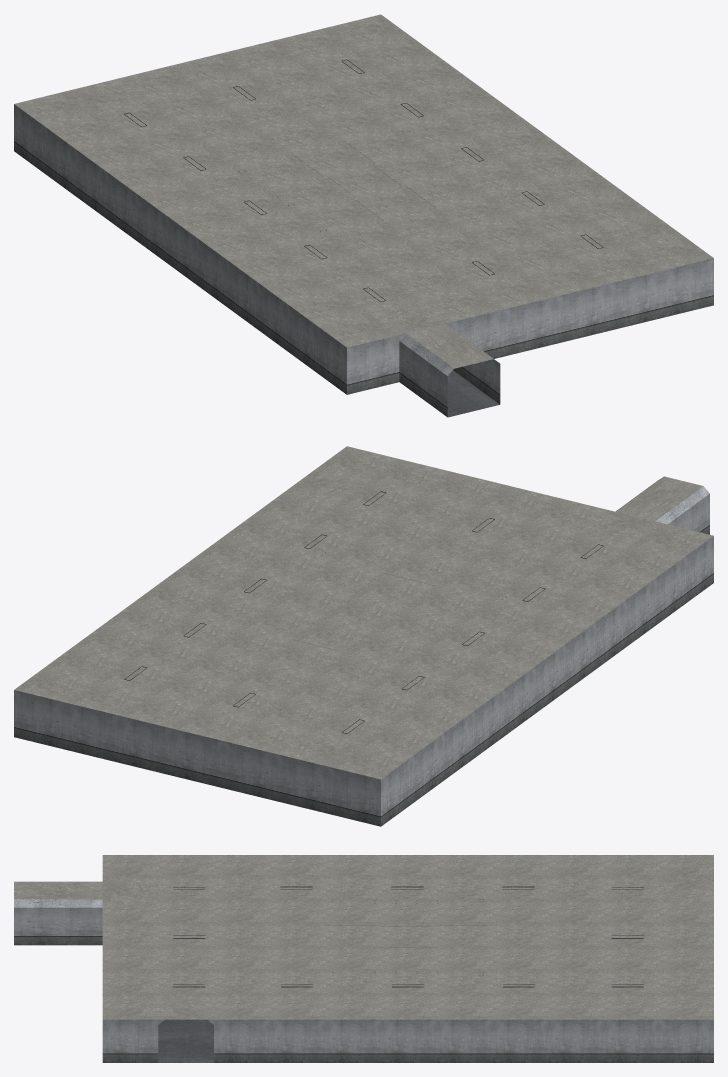
The model's file is aircarpark_02_sfse.obj.
3 renders of one model, top to bottom at view 1: azimuth 30°, elevation 25°; view 2: azimuth 150°, elevation 25°; view 3: azimuth 270°, elevation 25°, orthographic. The views are drawn at different scales.
Visible parts, largest first — view 1: aircarpark_02_SFSe; view 2: aircarpark_02_SFSe; view 3: aircarpark_02_SFSe.
Part boxes in pixels (x1,y1,x2,y2): aircarpark_02_SFSe: [14, 14, 713, 417]; aircarpark_02_SFSe: [14, 446, 713, 826]; aircarpark_02_SFSe: [14, 855, 713, 1062].
Size of the model in its own units: 57.59 by 7.15 by 104.
17 materials, 17 textured.
